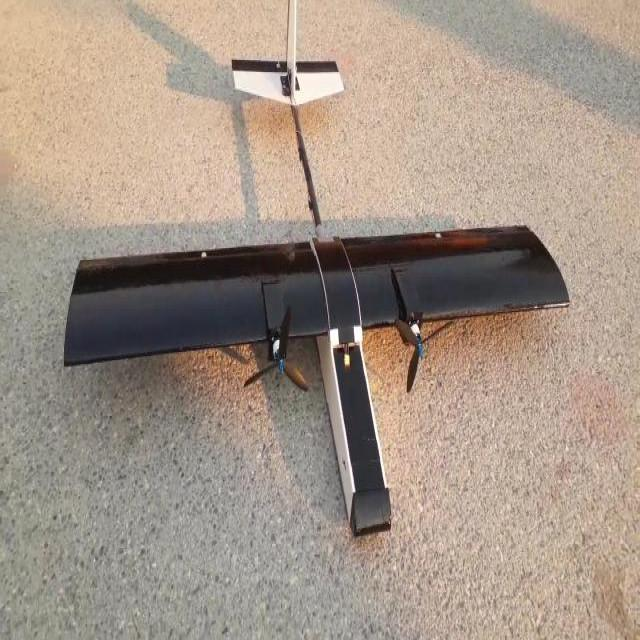UAV: (86, 56, 552, 484)
